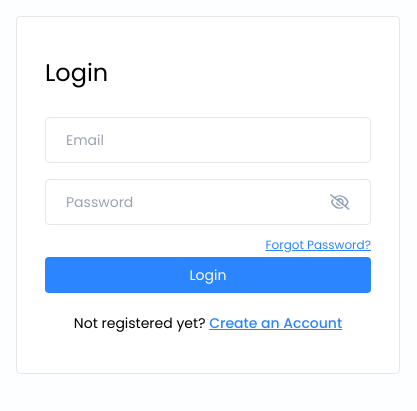
it: Login Component › shows API error message on failed login
The width and height of the screenshot is (417, 411).
Type "test@example.com" into the field with placeholder "Email" at (208, 140), box left=45, top=117, right=371, bottom=163
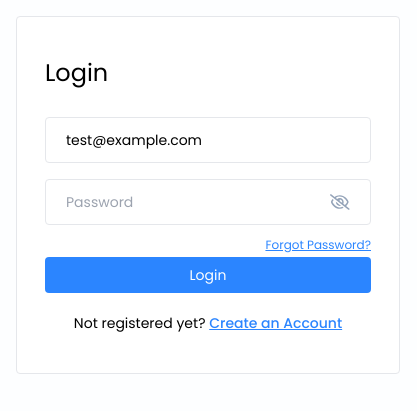
Type "wrongpassword" into the password field with placeholder "Password" at (192, 202), box left=66, top=180, right=318, bottom=224
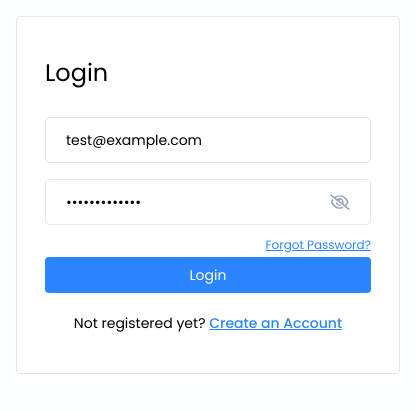
Click the button "Login" at (208, 275), box left=45, top=257, right=371, bottom=293
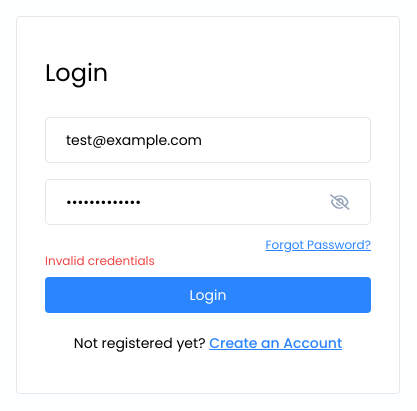
Now the text "Invalid credentials" is shown, box left=45, top=252, right=155, bottom=269
